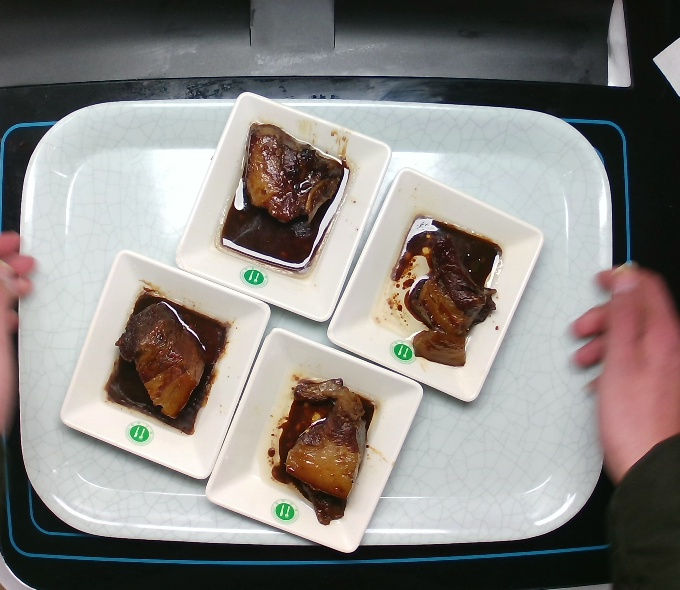wcq-DaKuaiRou: (215, 117, 359, 274), (92, 286, 233, 444), (260, 369, 389, 533), (389, 210, 510, 368)
